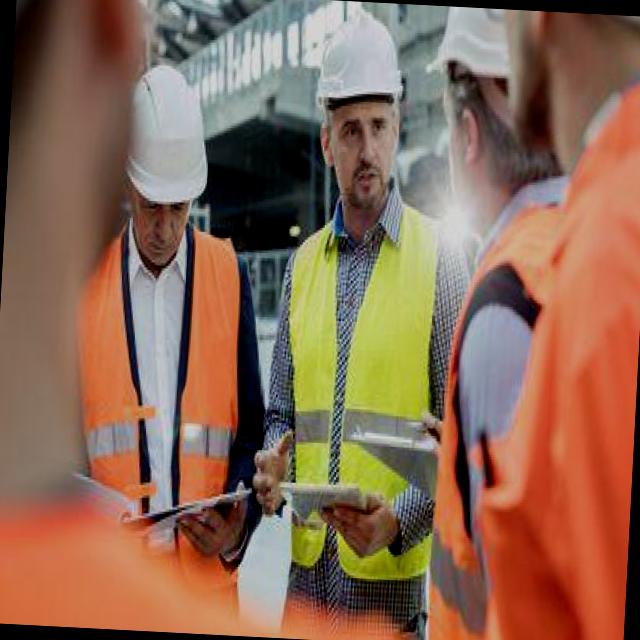helmet: (113, 58, 220, 209), (313, 7, 407, 101)
vest: (271, 192, 448, 580), (71, 220, 261, 532)
